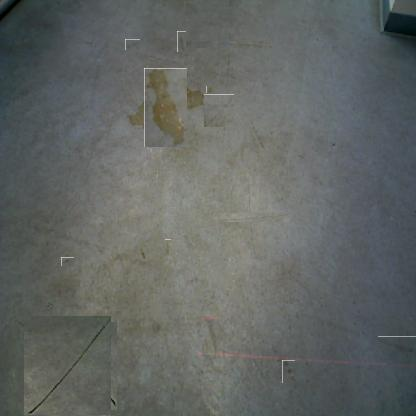liquid: (135, 77, 196, 138), (206, 86, 213, 93)
mark: (21, 319, 115, 413), (206, 20, 252, 68), (229, 196, 273, 238), (204, 95, 235, 127), (246, 122, 274, 148), (378, 336, 416, 353), (203, 317, 219, 355), (282, 360, 295, 383), (184, 1, 198, 15), (177, 31, 186, 52), (125, 39, 140, 50), (61, 257, 74, 266), (138, 246, 146, 260), (166, 239, 172, 256), (329, 139, 337, 149), (47, 302, 53, 308)
